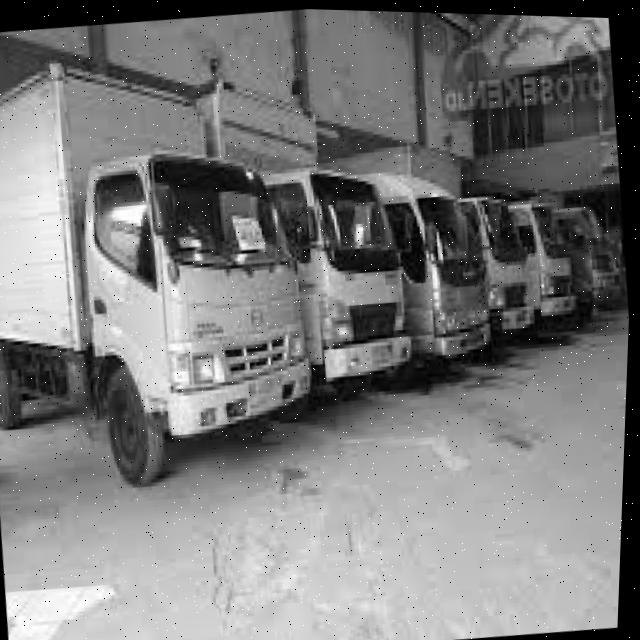truck: (55, 113, 337, 503), (255, 146, 431, 424), (370, 159, 509, 385), (453, 182, 549, 348)
